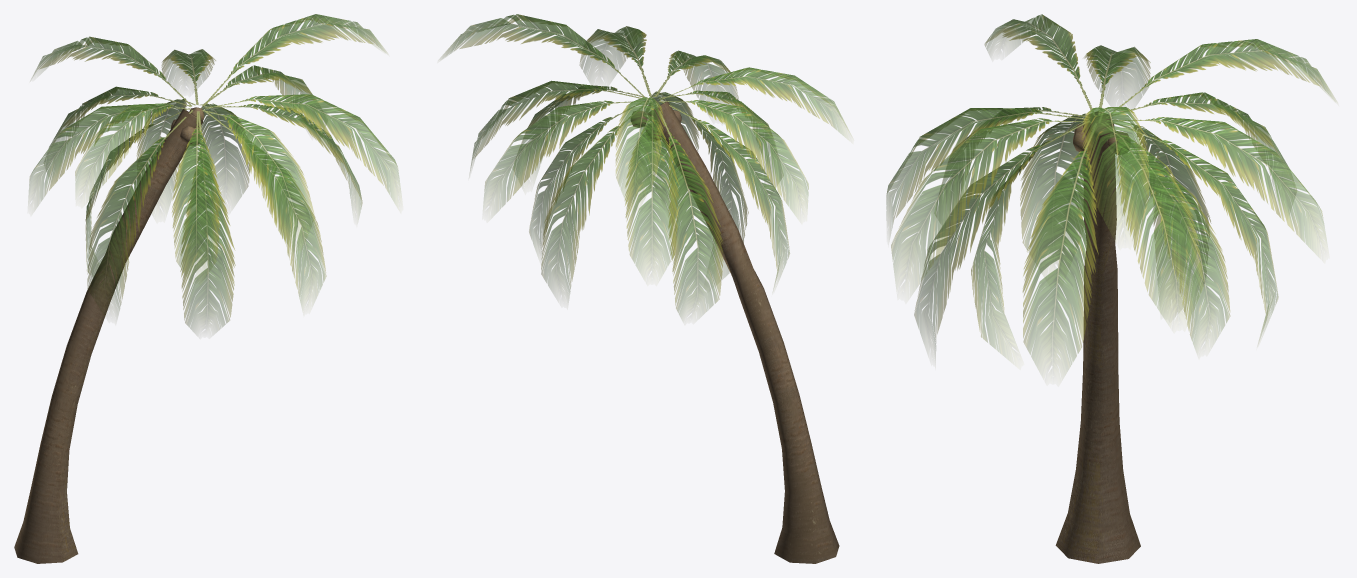
File: palm_b.glb
The picture shows the model from 3 angles, left to right: view 1: azimuth 30°, elevation 25°; view 2: azimuth 150°, elevation 25°; view 3: azimuth 270°, elevation 25°; orthographic projection. The views are drawn at different scales.
Visible parts, largest first — view 1: palm_b; view 2: palm_b; view 3: palm_b.
Part boxes in pixels (x1=…): palm_b: x1=14, y1=14, x2=400, y2=563; palm_b: x1=439, y1=14, x2=851, y2=563; palm_b: x1=886, y1=14, x2=1336, y2=563.
Bounding box in the file's own units: 6.16 × 7 × 4.91.
Materials: 2 (2 with a texture image).
